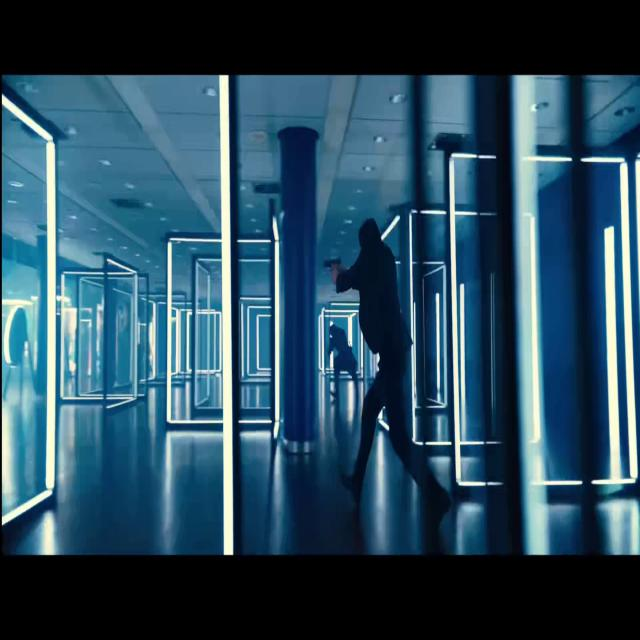weapons: (315, 231, 352, 306)
